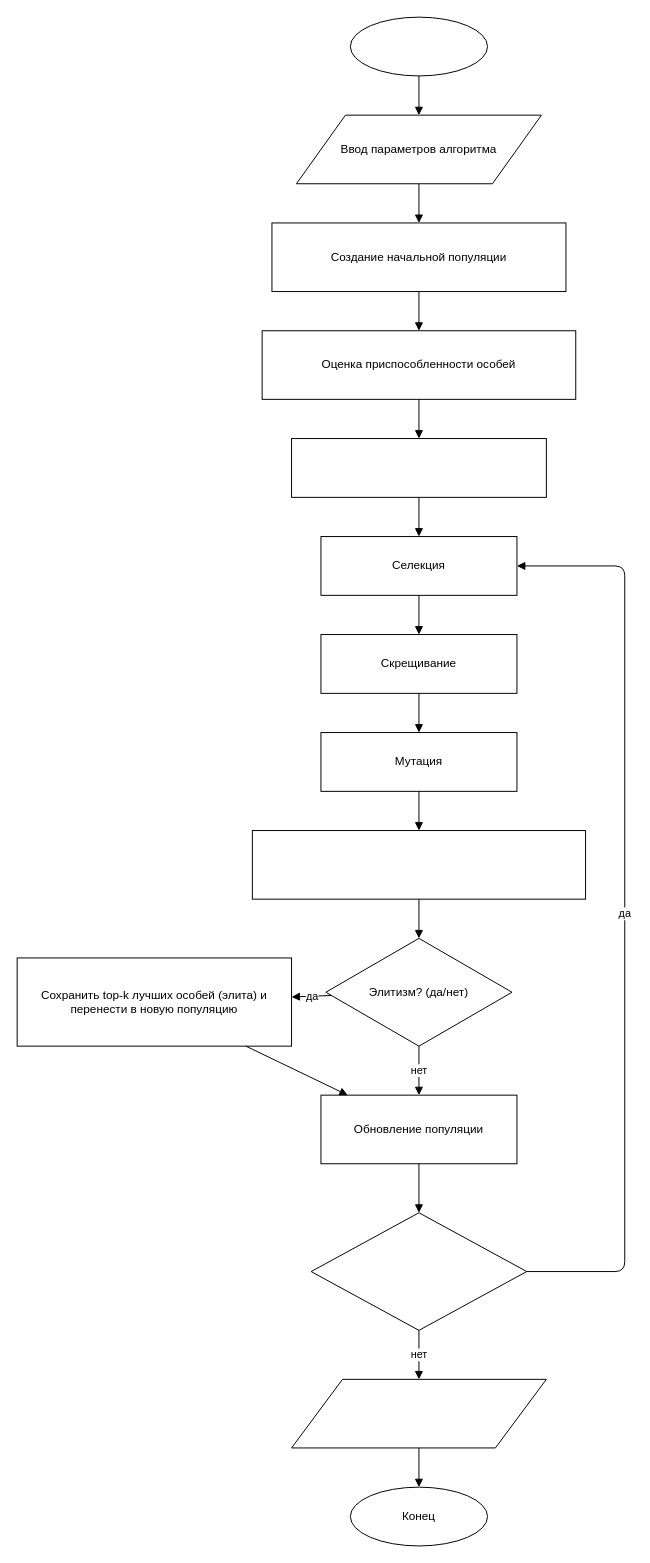
The diagram is 650 pixels wide and 1563 high, and some of its shapes have lost their labels. The box of each missing label's shape, as (x1, y1, x2, y2) in pixels:
Вывод лучшего решения: (291, 1378, 546, 1448)
Оценка приспособленности потомков: (251, 830, 586, 899)
Продолжать цикл по поколениям?: (310, 1212, 527, 1330)
Старт: (349, 16, 488, 76)
Цикл по поколениям: (291, 438, 546, 497)
